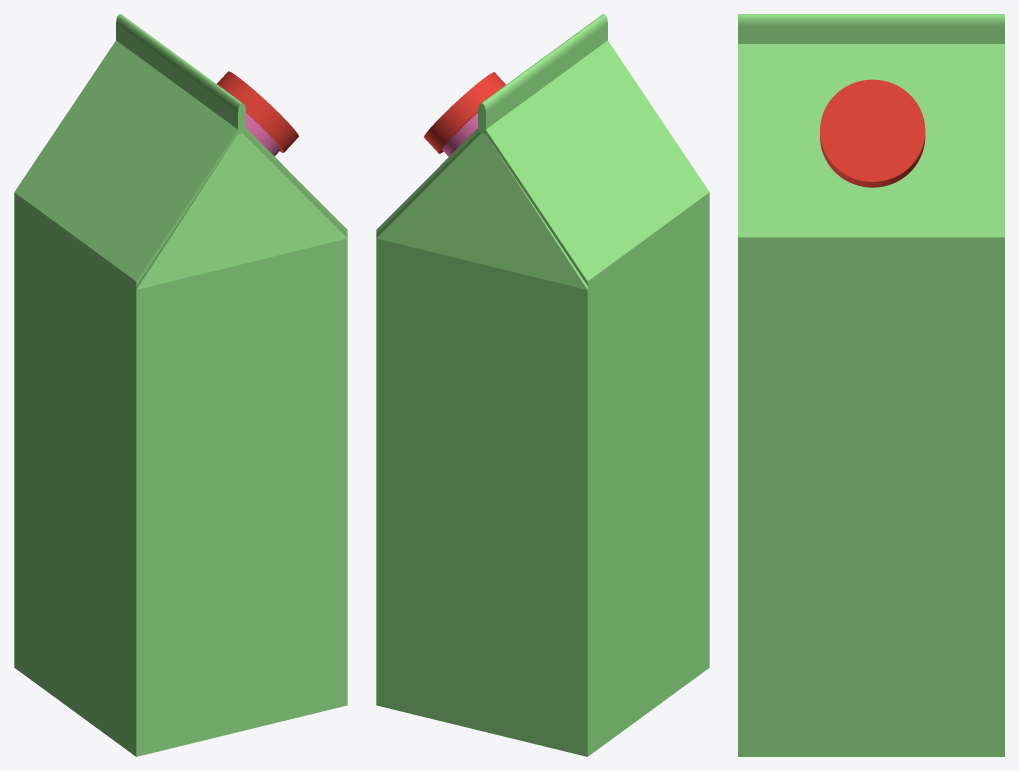
Rendered from Einkaufsladen_Füllmaterial_Saftpackung_Groß_Variante_1_Base_Überprüft.fbx.
The picture shows the model from 3 angles, left to right: view 1: azimuth 30°, elevation 25°; view 2: azimuth 150°, elevation 25°; view 3: azimuth 270°, elevation 25°; orthographic projection. The views are drawn at different scales.
Parts seen in each view (by area): view 1: Cube.012, Cylinder.008; view 2: Cube.012, Cylinder.008; view 3: Cube.012, Cylinder.008.
Part boxes in pixels (x1,y1,x2,y2): Cube.012: (14,14,347,756); Cylinder.008: (217,71,298,152); Cube.012: (376,14,709,756); Cylinder.008: (424,72,505,153); Cube.012: (738,14,1004,756); Cylinder.008: (820,79,925,187).
Size of the model in its own units: 460 by 1284 by 453.
